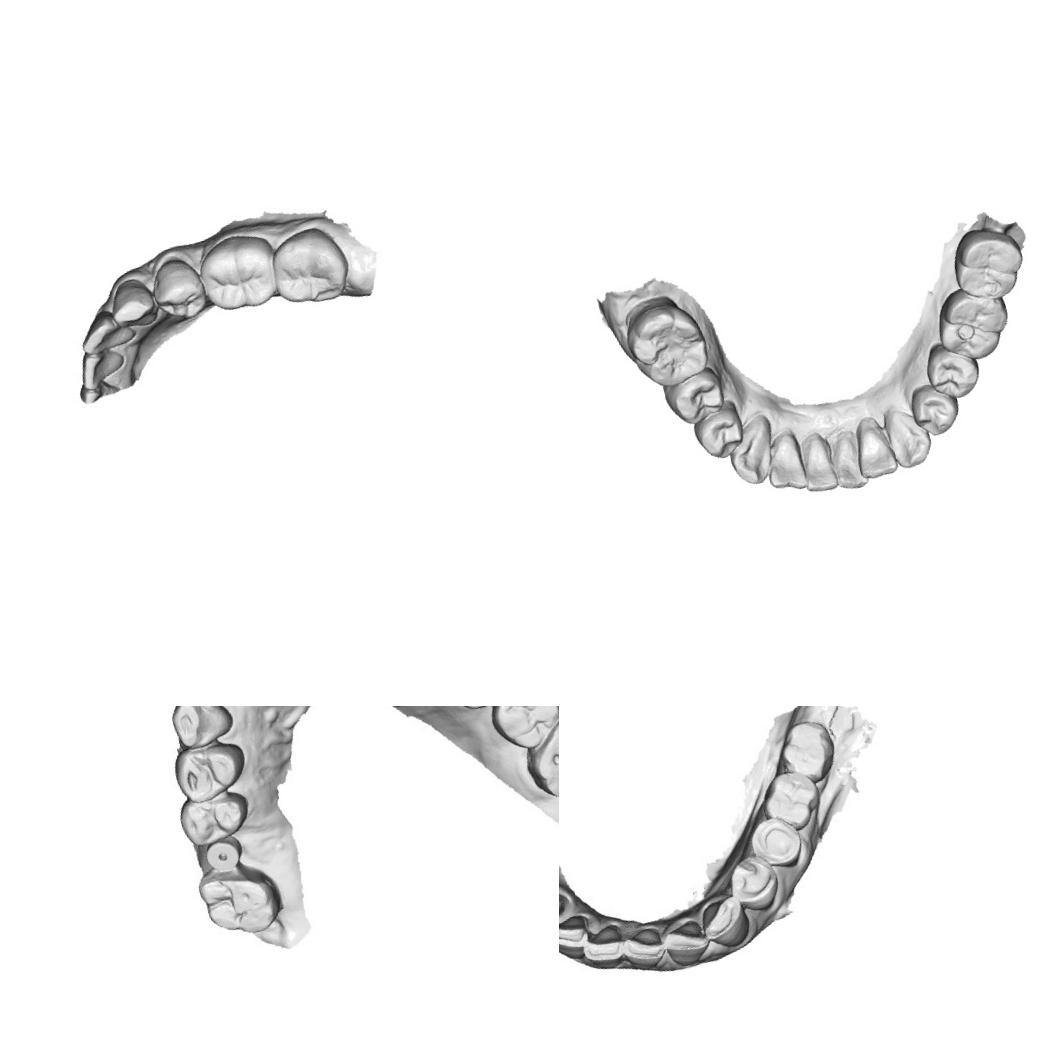canine: (691, 884, 760, 960), (720, 412, 785, 490), (880, 399, 936, 470), (101, 272, 160, 334), (159, 706, 237, 752)
implant: (196, 827, 246, 879)
incisor: (846, 410, 900, 482), (756, 427, 810, 497), (610, 920, 674, 977), (72, 302, 138, 356), (656, 912, 710, 971), (792, 428, 839, 495), (823, 426, 868, 493), (576, 924, 630, 978), (73, 344, 130, 392), (559, 911, 597, 970)
molar: (616, 286, 714, 395), (262, 220, 357, 317), (191, 225, 287, 320), (194, 857, 289, 947), (928, 277, 1018, 367), (944, 218, 1032, 308), (753, 760, 824, 839), (772, 712, 842, 791), (514, 706, 559, 804), (480, 706, 559, 758)
premolar: (165, 735, 254, 808), (173, 779, 260, 849), (144, 252, 210, 326), (659, 362, 730, 430), (744, 810, 808, 883), (920, 336, 984, 404), (688, 398, 748, 464), (725, 852, 782, 918), (906, 377, 965, 440)
